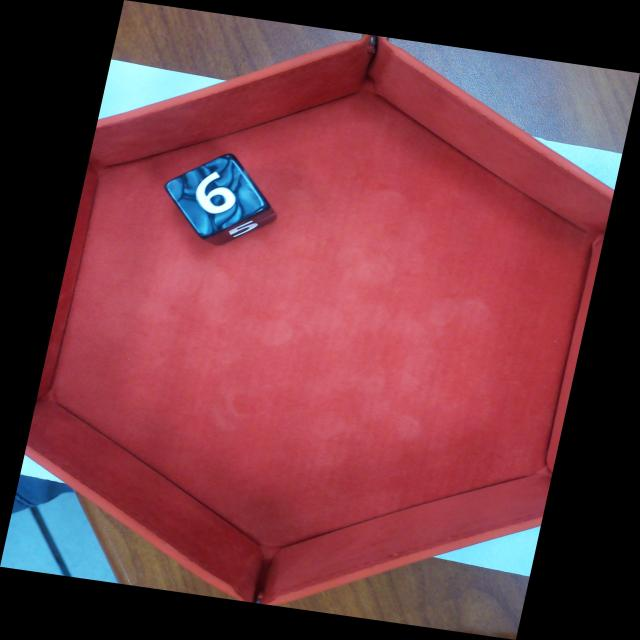dice: (170, 157, 269, 235)
